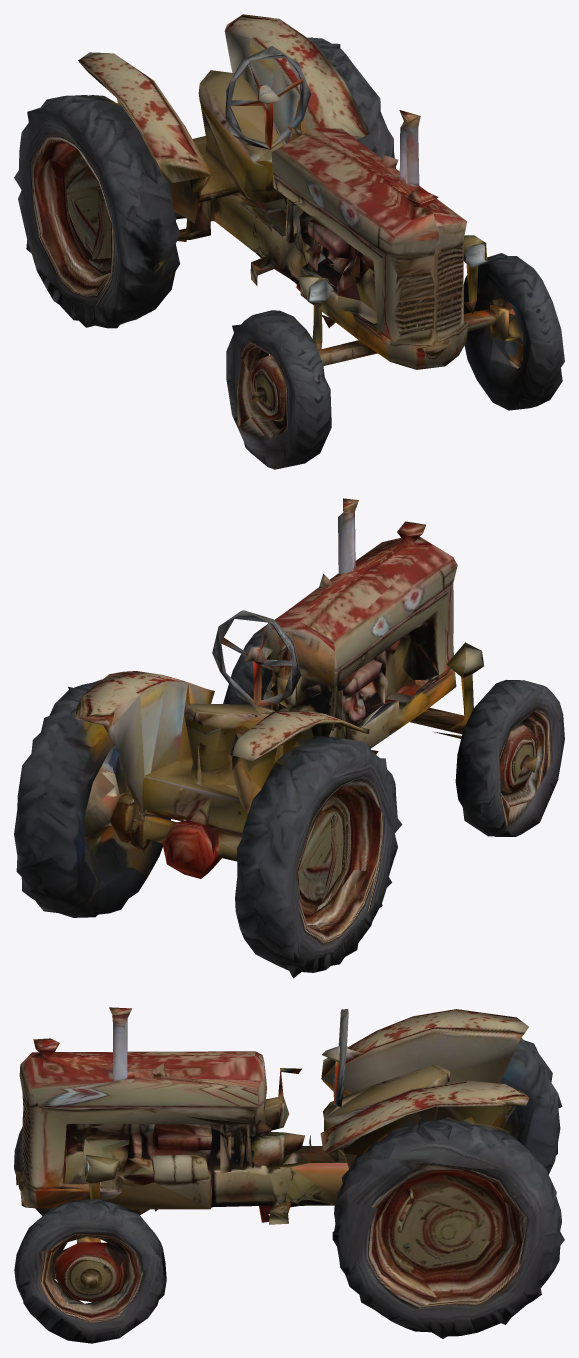
File: tractor.glb
3 renders of one model, top to bottom at view 1: azimuth 30°, elevation 25°; view 2: azimuth 150°, elevation 25°; view 3: azimuth 270°, elevation 25°, orthographic. The views are drawn at different scales.
Parts seen in each view (by area): view 1: tractor; view 2: tractor; view 3: tractor.
Part boxes in pixels (x1=…): tractor: x1=14, y1=14, x2=564, y2=469; tractor: x1=14, y1=498, x2=564, y2=978; tractor: x1=14, y1=1007, x2=564, y2=1343.
Bounding box in the file's own units: 2.58 × 2.6 × 4.48.
Materials: 1 (1 with a texture image).
